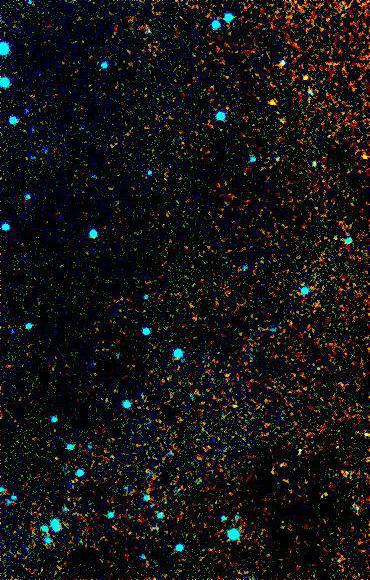star: (256, 87, 286, 117)
